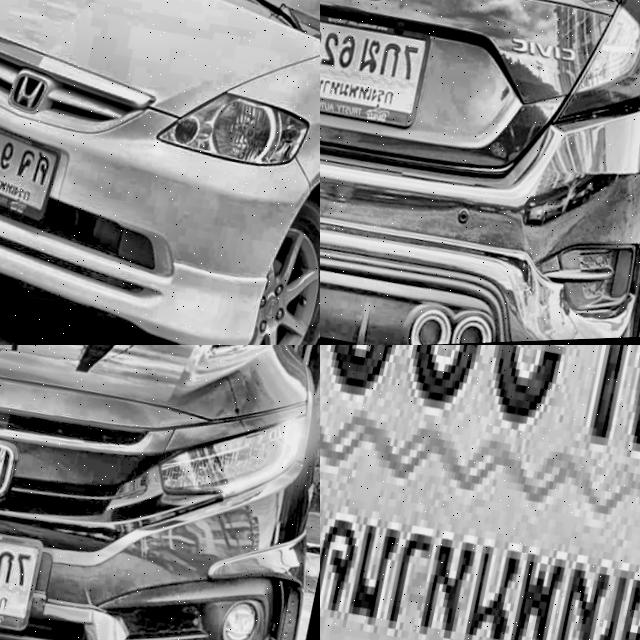license-plate: (320, 345, 640, 640), (320, 0, 434, 139), (0, 105, 69, 232), (0, 513, 44, 639)
